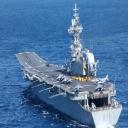Portanaves: (15, 4, 124, 128)
